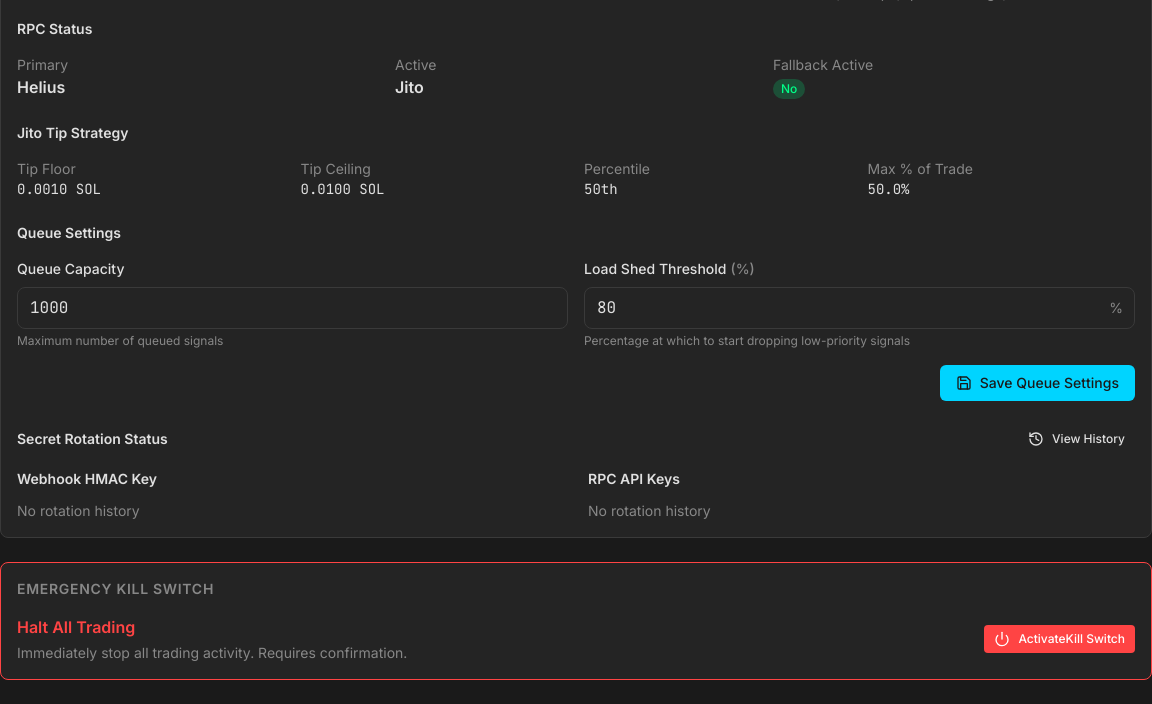
Scenario: Config › renders the empty change history
(page scrolled)
Click the button "View History" at (1077, 439), box [1018,425,1135,453]
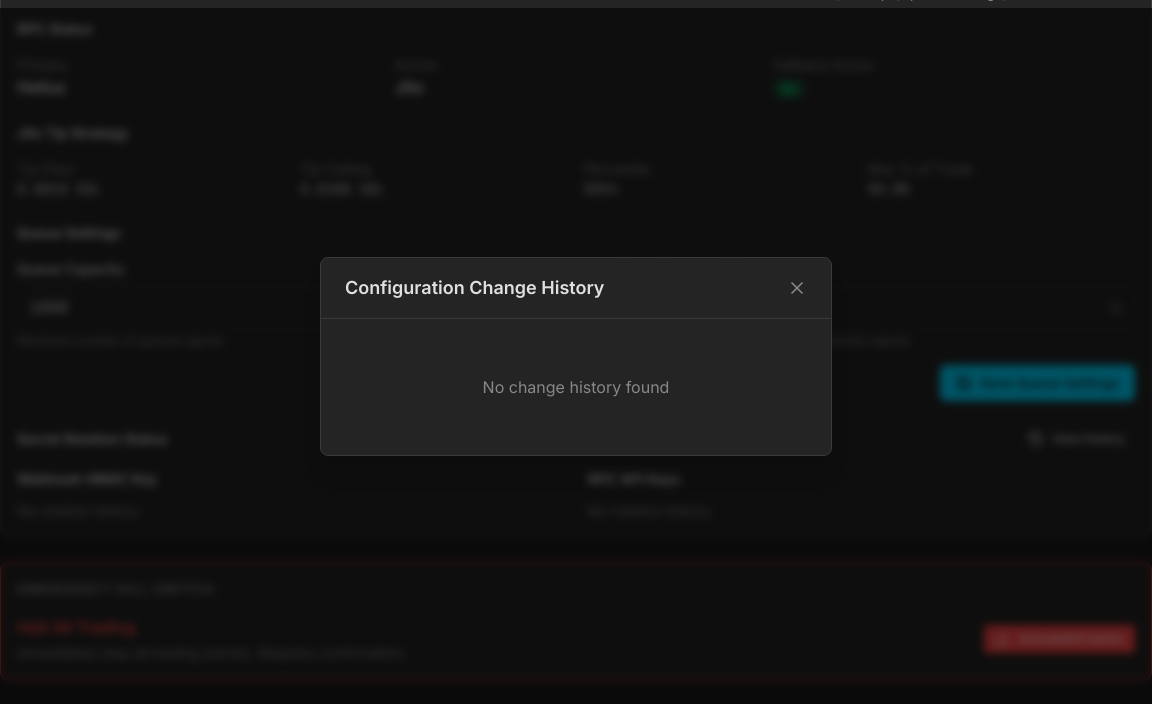
Result: the text "No change history found" is shown at [483,376,669,396]
